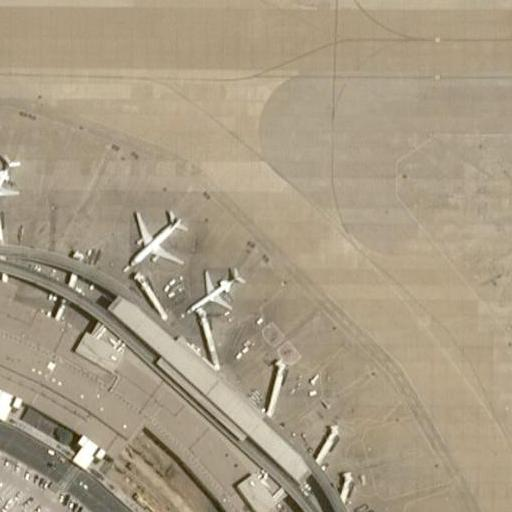Aircraft: (124, 207, 185, 270), (187, 265, 245, 314), (0, 153, 20, 221)
